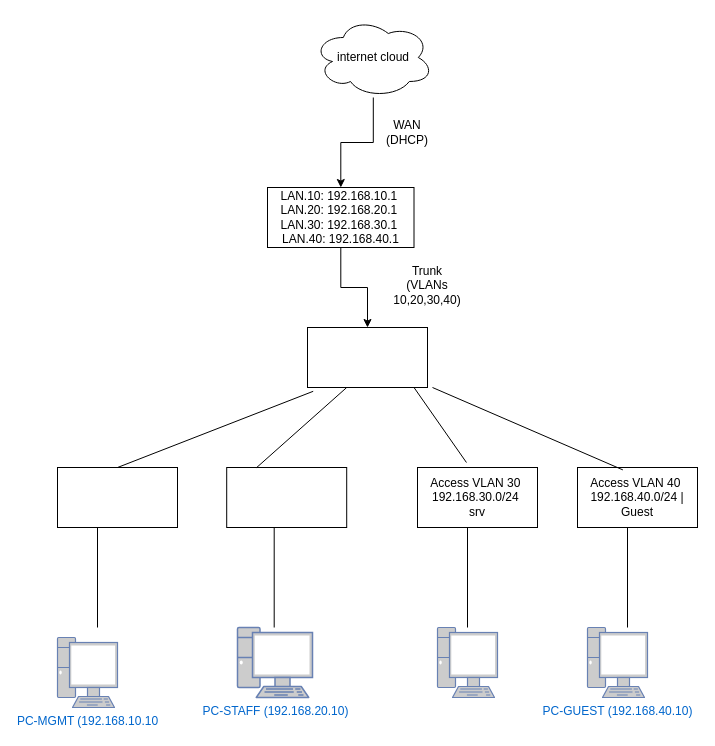
The diagram is 715 pixels wide and 746 high, and some of its shapes have lost their labels. The box of each missing label's shape, as (x1, y1, x2, y2) in pixels:
[Core-SW01] Mgmt: 192.168.10.2: (306, 326, 428, 388)
Access VLAN 10 192.168.10.0/24 Management: (56, 466, 178, 528)
Access VLAN 20 192.168.20.0/24 Guest: (226, 466, 347, 528)
PC-SRV (192.168.30.10): (436, 626, 498, 698)
